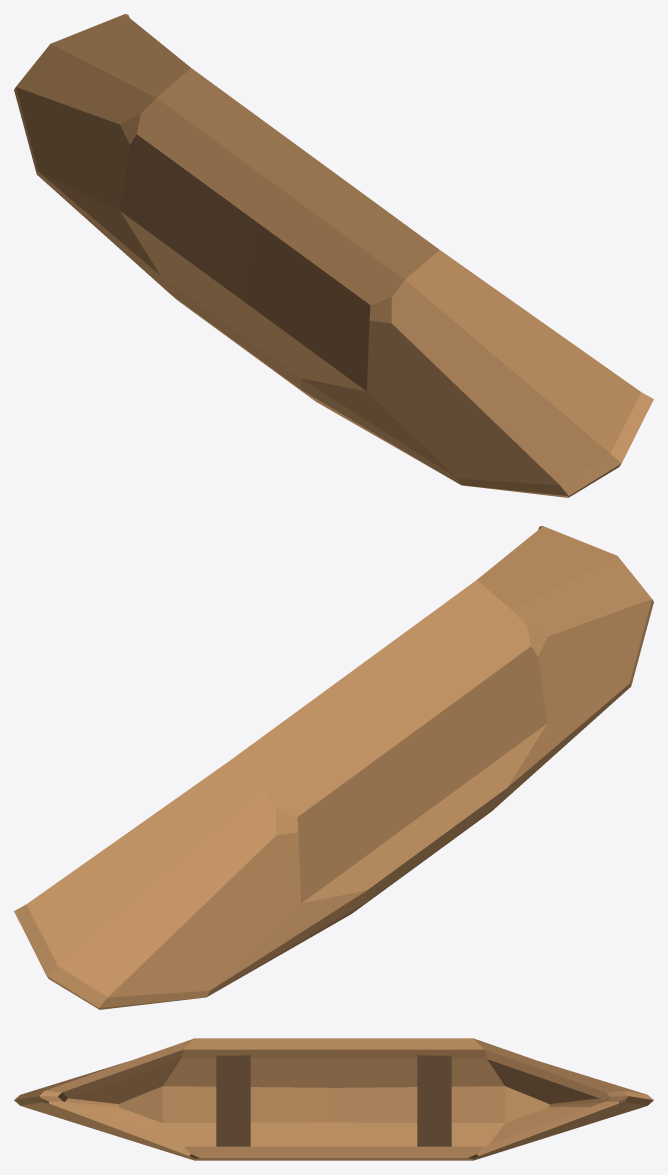
File: barco.fbx
3 views of the same model, one above another, from view 1: azimuth 30°, elevation 25°; view 2: azimuth 150°, elevation 25°; view 3: azimuth 270°, elevation 25° (orthographic). The views are drawn at different scales.
Parts seen in each view (by area): view 1: Plane.002; view 2: Plane.002; view 3: Plane.002.
Part boxes in pixels (<box>): Plane.002: <box>14,14,653,497</box>; Plane.002: <box>14,526,653,1009</box>; Plane.002: <box>14,1038,653,1160</box>.
Bounding box in the file's own units: 402 × 432 × 2209.
